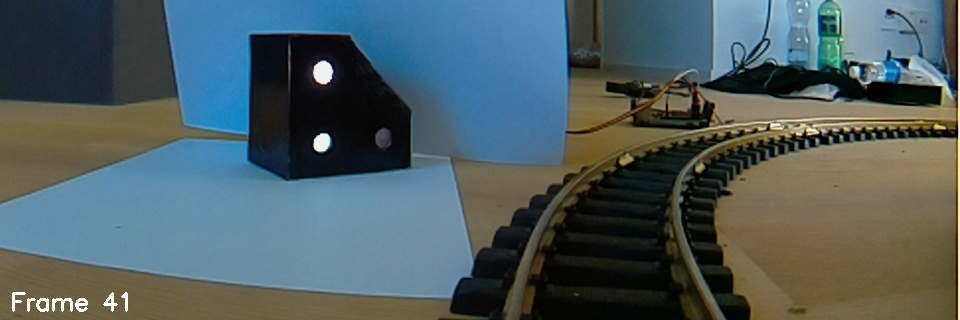Fahrt: (243, 30, 418, 183)
